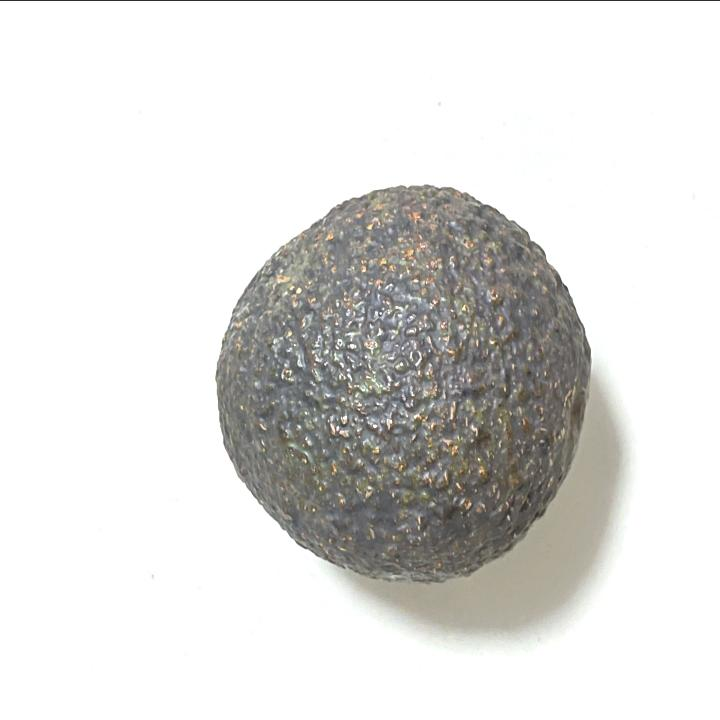Level1: (198, 164, 602, 598)
